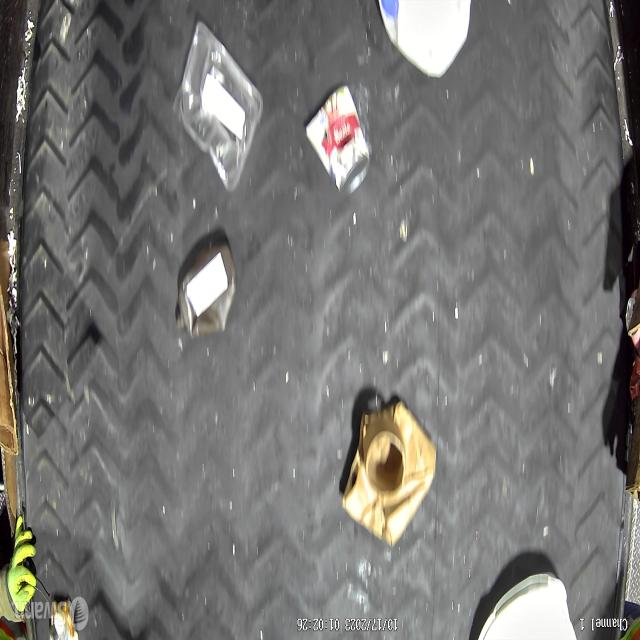can: (307, 82, 370, 196)
non_white_jug: (176, 242, 236, 340)
